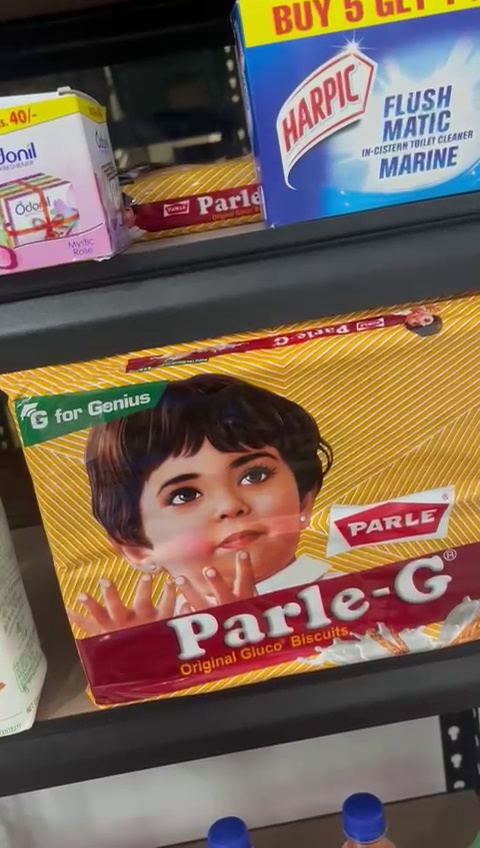Parle-G: (13, 361, 480, 661)
